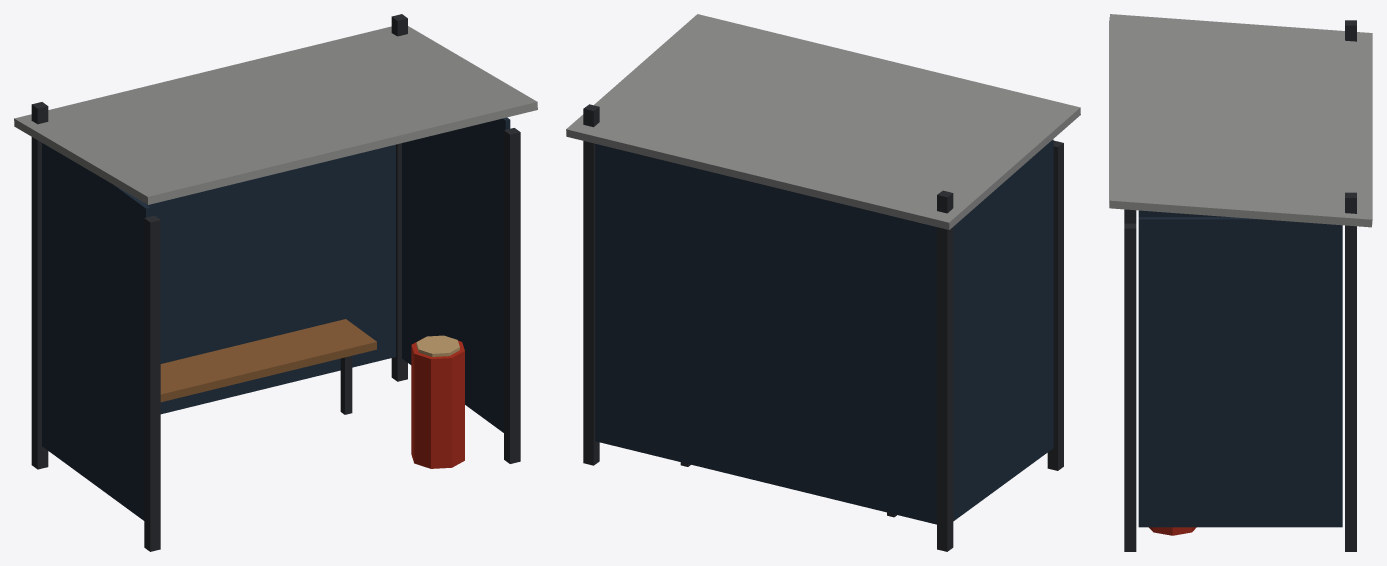
Rendered from prop_smoking-shelter.glb.
3 views of the same model, side by side, from view 1: azimuth 30°, elevation 25°; view 2: azimuth 150°, elevation 25°; view 3: azimuth 270°, elevation 25° (orthographic).
Visible parts, largest first — view 1: body; view 2: body; view 3: body.
Boxes of the visible parts, x1=… form: body: x1=14, y1=14, x2=537, y2=551; body: x1=566, y1=14, x2=1080, y2=551; body: x1=1109, y1=14, x2=1372, y2=551.
Size of the model in its own units: 2.6 by 2.31 by 1.55.
